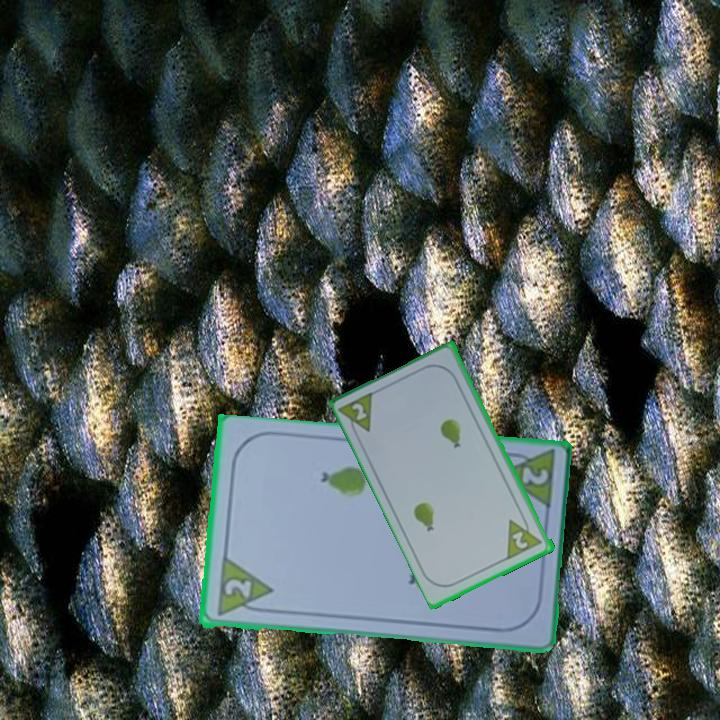2p: (213, 556, 275, 620), (517, 463, 551, 488), (509, 528, 531, 552), (349, 399, 370, 424)
